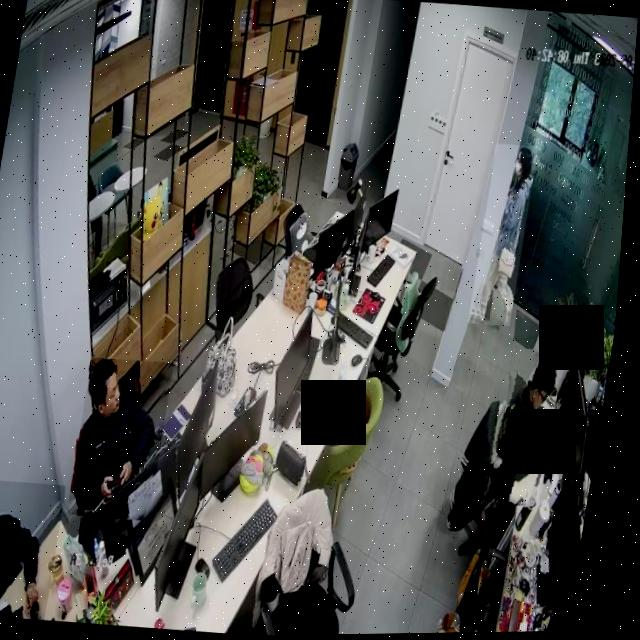person: (74, 356, 180, 522), (485, 348, 576, 510), (473, 144, 540, 328), (0, 477, 73, 621)
